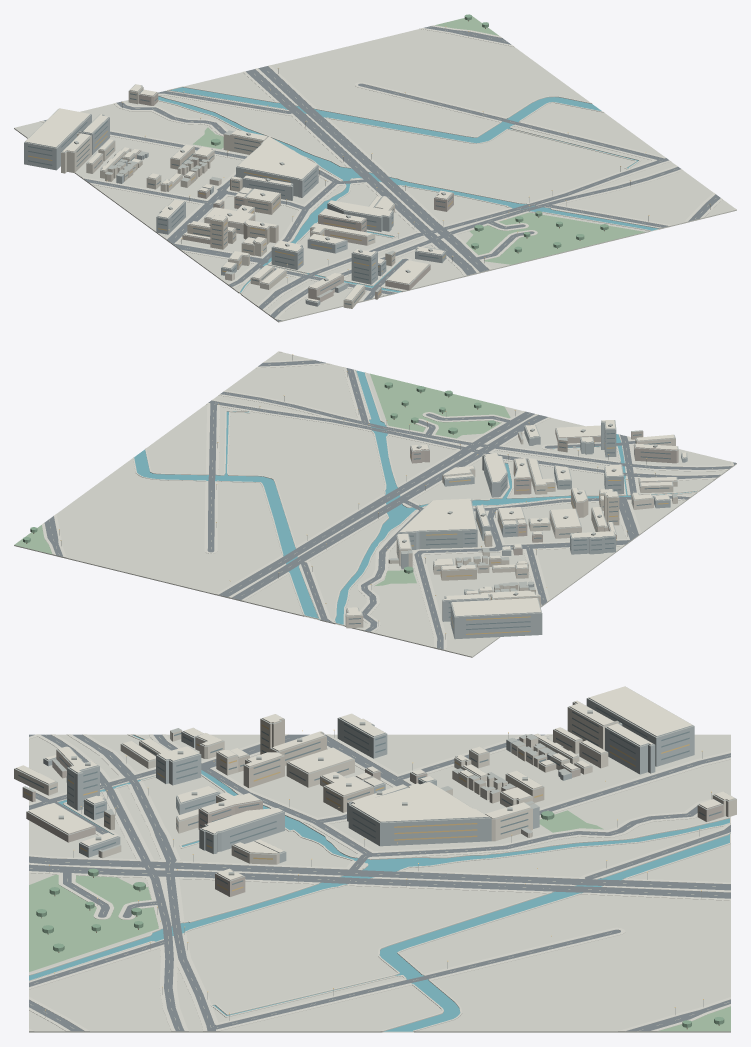
The picture shows the model from 3 angles, top to bottom: view 1: azimuth 30°, elevation 25°; view 2: azimuth 150°, elevation 25°; view 3: azimuth 270°, elevation 25°; orthographic projection. The views are drawn at different scales.
Visible parts, largest first — view 1: city; view 2: city; view 3: city.
Boxes of the visible parts, x1=… form: city: x1=14, y1=14, x2=736, y2=322; city: x1=14, y1=351, x2=736, y2=657; city: x1=14, y1=686, x2=736, y2=1032.
Size of the model in its own units: 533 by 31.55 by 515.
